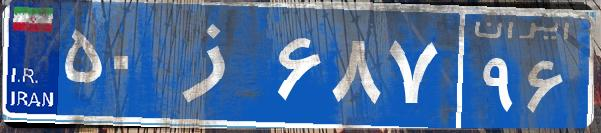0: (110, 28, 158, 105)
5: (57, 26, 110, 107)
6: (273, 28, 330, 110), (525, 38, 570, 115)
7: (385, 28, 445, 110)
8: (330, 28, 385, 110)
9: (475, 38, 525, 113)
ز: (158, 15, 273, 115)
